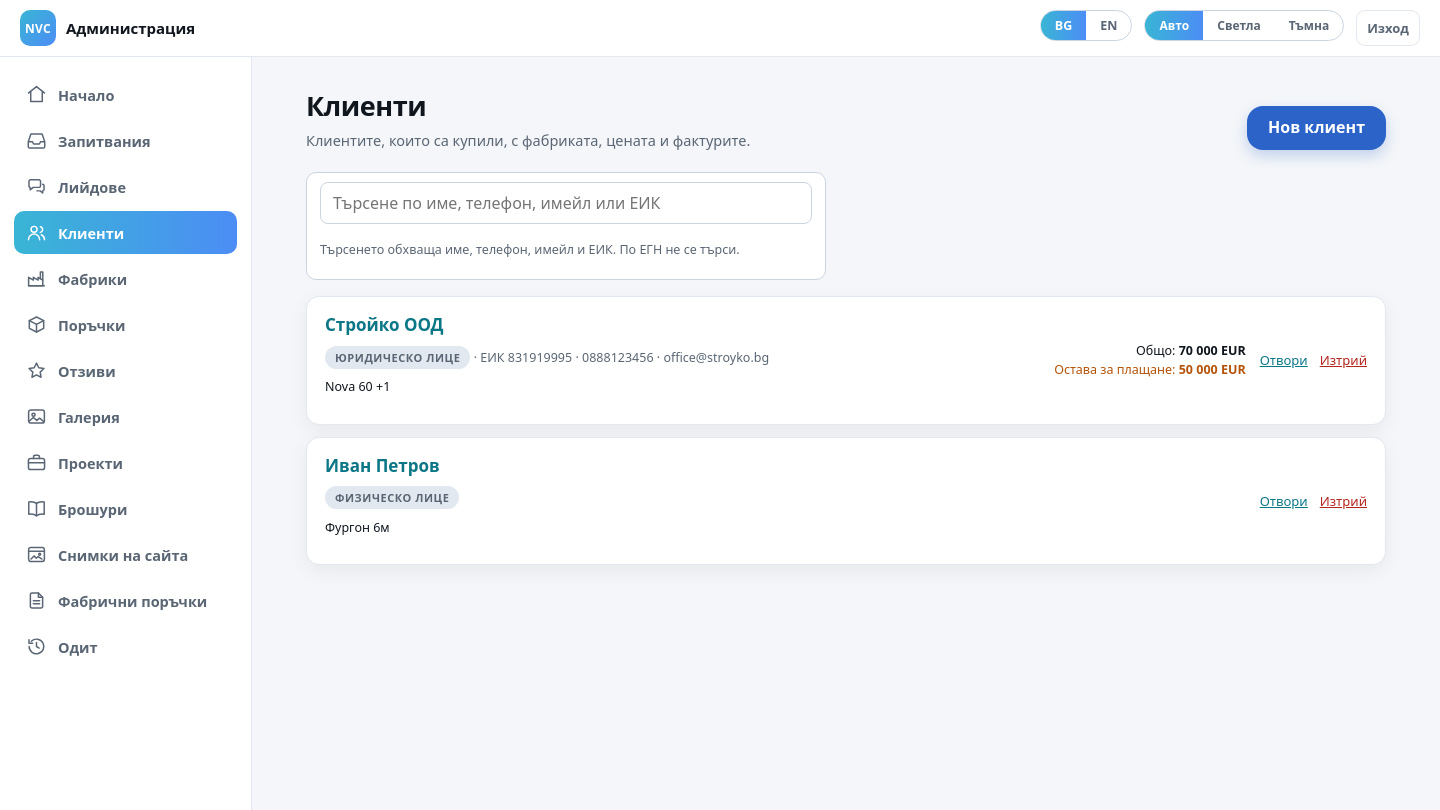
Test: AdminCustomersPage › says nothing rather than zero when no price has been agreed
This screenshot has width=1440, height=810.
What coordinates should you click on to do the following:
click the button "Стройко ООД"
I would click on:
 (384, 324)
Its box is [325,313,444,336].
(page scrolled)
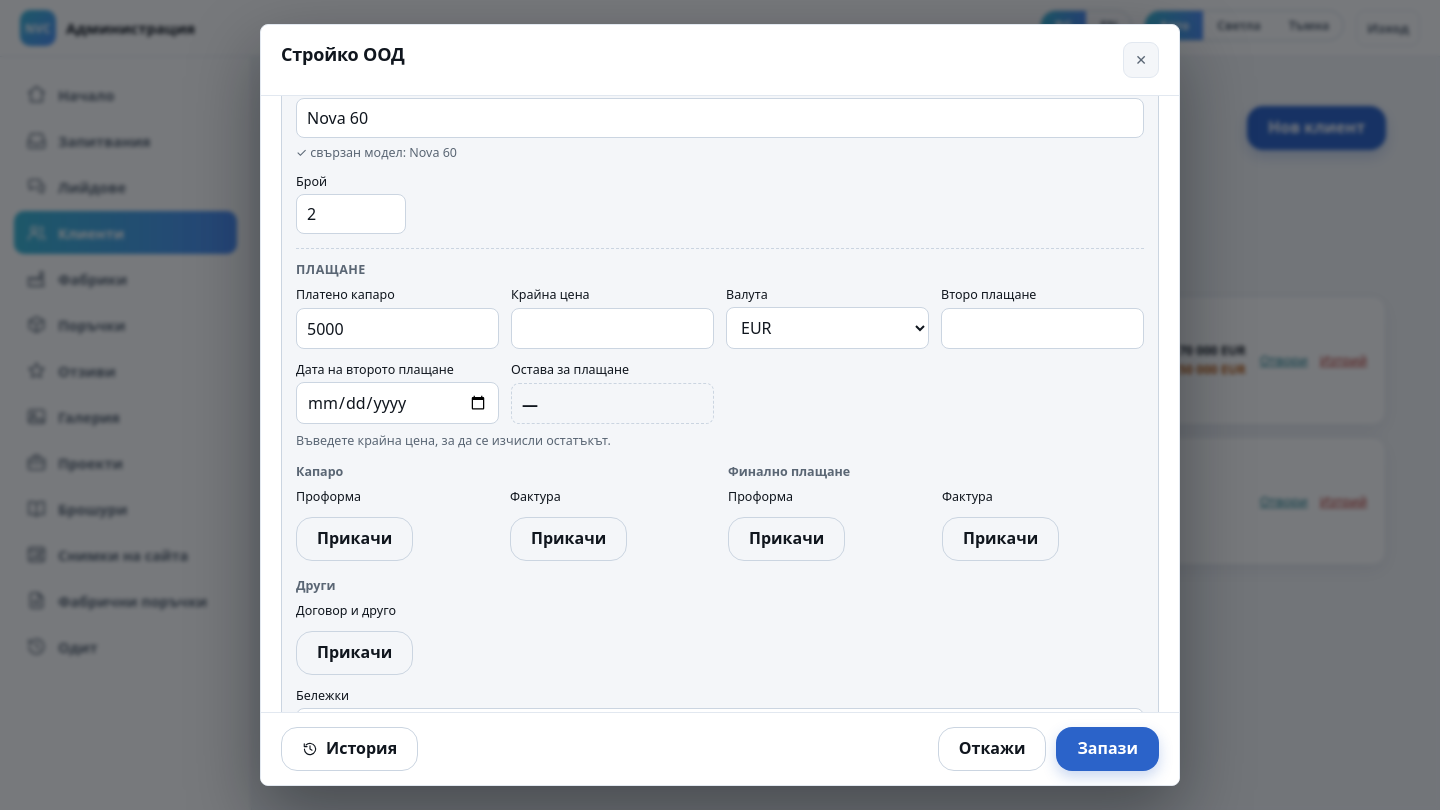
Expected: the text "—" is shown, [511,383,714,424]
